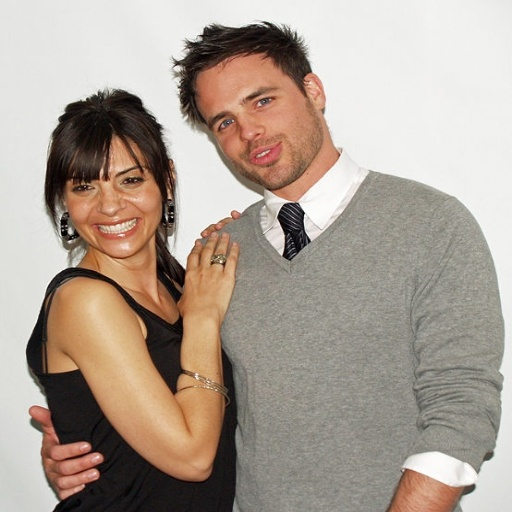hand: (174, 208, 247, 364), (23, 403, 103, 500), (197, 208, 239, 237)
